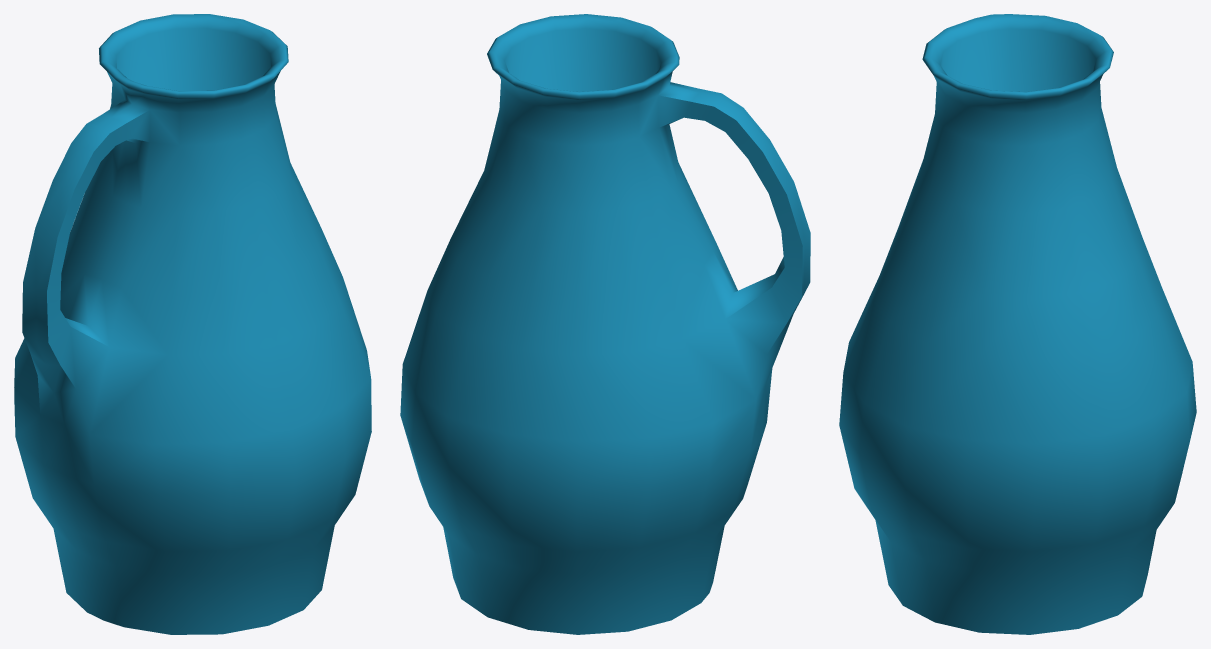
The model's file is jug.fbx.
3 renders of one model, left to right at view 1: azimuth 30°, elevation 25°; view 2: azimuth 150°, elevation 25°; view 3: azimuth 270°, elevation 25°, orthographic.
Parts seen in each view (by area): view 1: jug; view 2: jug; view 3: jug.
Boxes of the visible parts, bbox=[...] form: jug: bbox=[14, 14, 371, 634]; jug: bbox=[400, 14, 810, 634]; jug: bbox=[839, 14, 1196, 634].
Size of the model in its own units: 940 by 1343 by 825.
